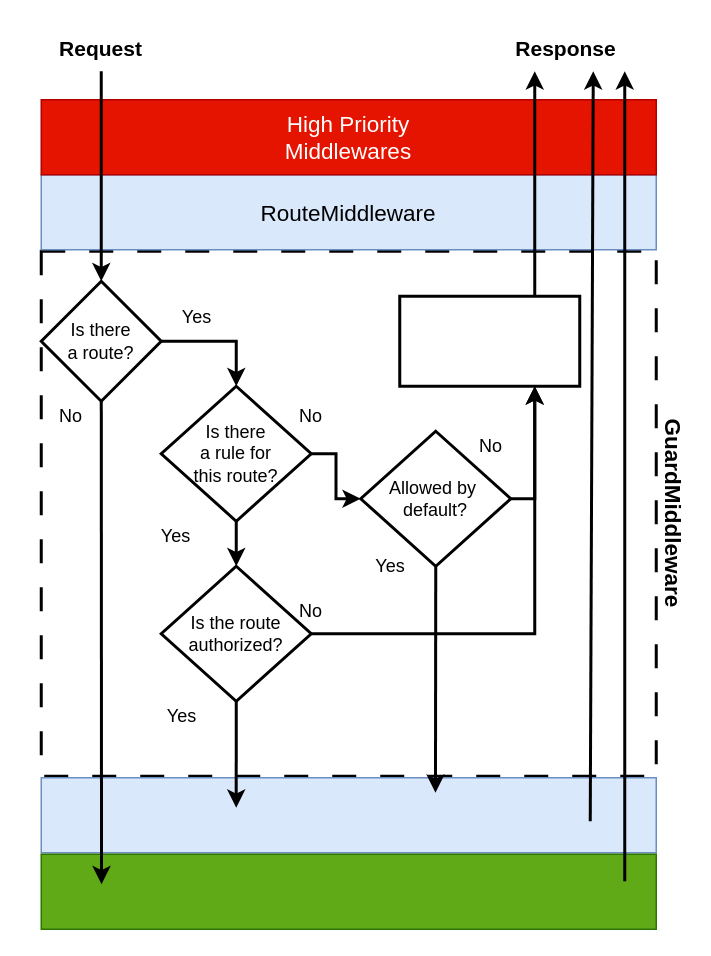
Some shapes in this 711 by 956 pixel diagram are drawn without their labels. Here are the shapes that lost their labels. From the top down, the centre of each, then its label:
At point (489, 340): "Unauthorized Response".
At point (348, 814): "DispatchMiddleware".
At point (348, 891): "Low Priority Middlewares".
